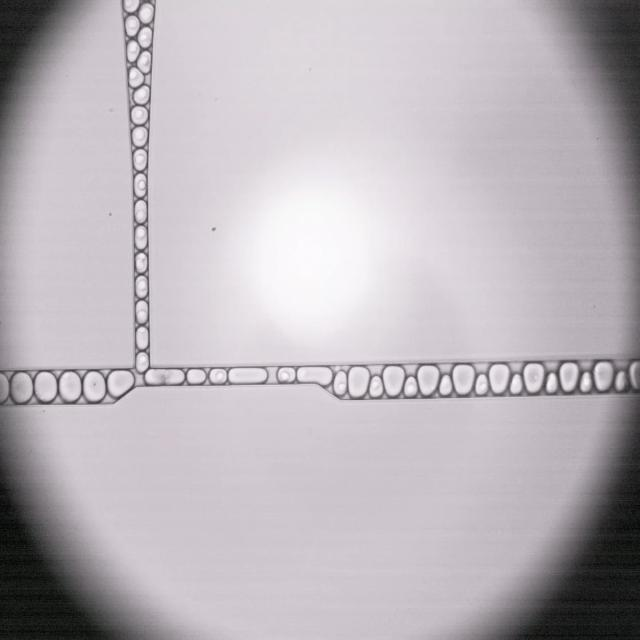L: (333, 371, 347, 395), (132, 127, 148, 147), (125, 15, 140, 36), (137, 51, 151, 73), (131, 106, 148, 124), (133, 85, 149, 104), (129, 67, 144, 87), (134, 200, 147, 223), (134, 226, 147, 249), (138, 27, 152, 48), (133, 149, 147, 170), (369, 376, 383, 397), (134, 173, 146, 197), (127, 40, 140, 62), (135, 276, 148, 298), (135, 301, 148, 323), (439, 374, 452, 396), (139, 3, 153, 23), (404, 376, 417, 397), (615, 370, 628, 391), (210, 368, 227, 384), (187, 369, 205, 384), (136, 327, 148, 349), (475, 374, 488, 394), (277, 367, 295, 381), (580, 372, 592, 393), (136, 353, 149, 372), (510, 374, 522, 394), (135, 253, 147, 272), (546, 373, 557, 393), (124, 0, 139, 12)
S: (107, 370, 134, 397), (34, 372, 57, 402), (59, 371, 81, 402), (83, 371, 105, 402), (383, 366, 405, 396), (452, 364, 474, 394), (11, 372, 32, 403), (348, 367, 369, 398), (417, 366, 439, 395), (297, 367, 332, 385), (523, 363, 544, 393), (559, 362, 579, 392), (228, 368, 267, 383), (489, 364, 509, 393), (593, 362, 613, 391), (147, 369, 184, 384), (629, 361, 640, 389), (0, 372, 9, 404)
